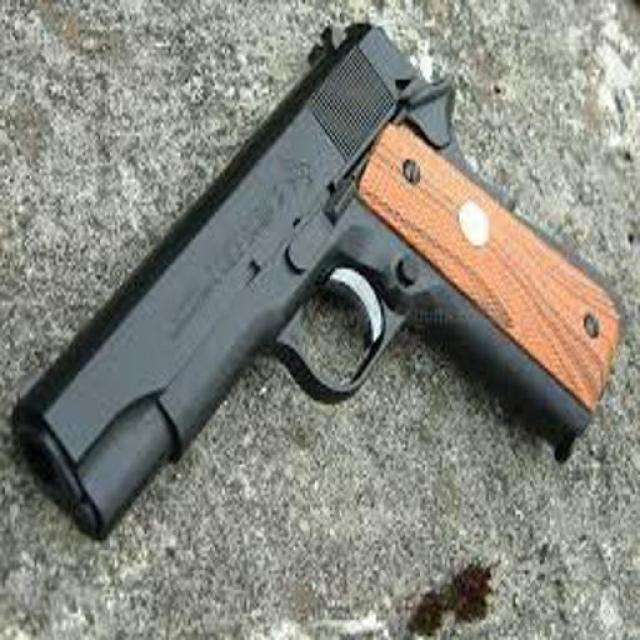pistol: (26, 22, 627, 546)
